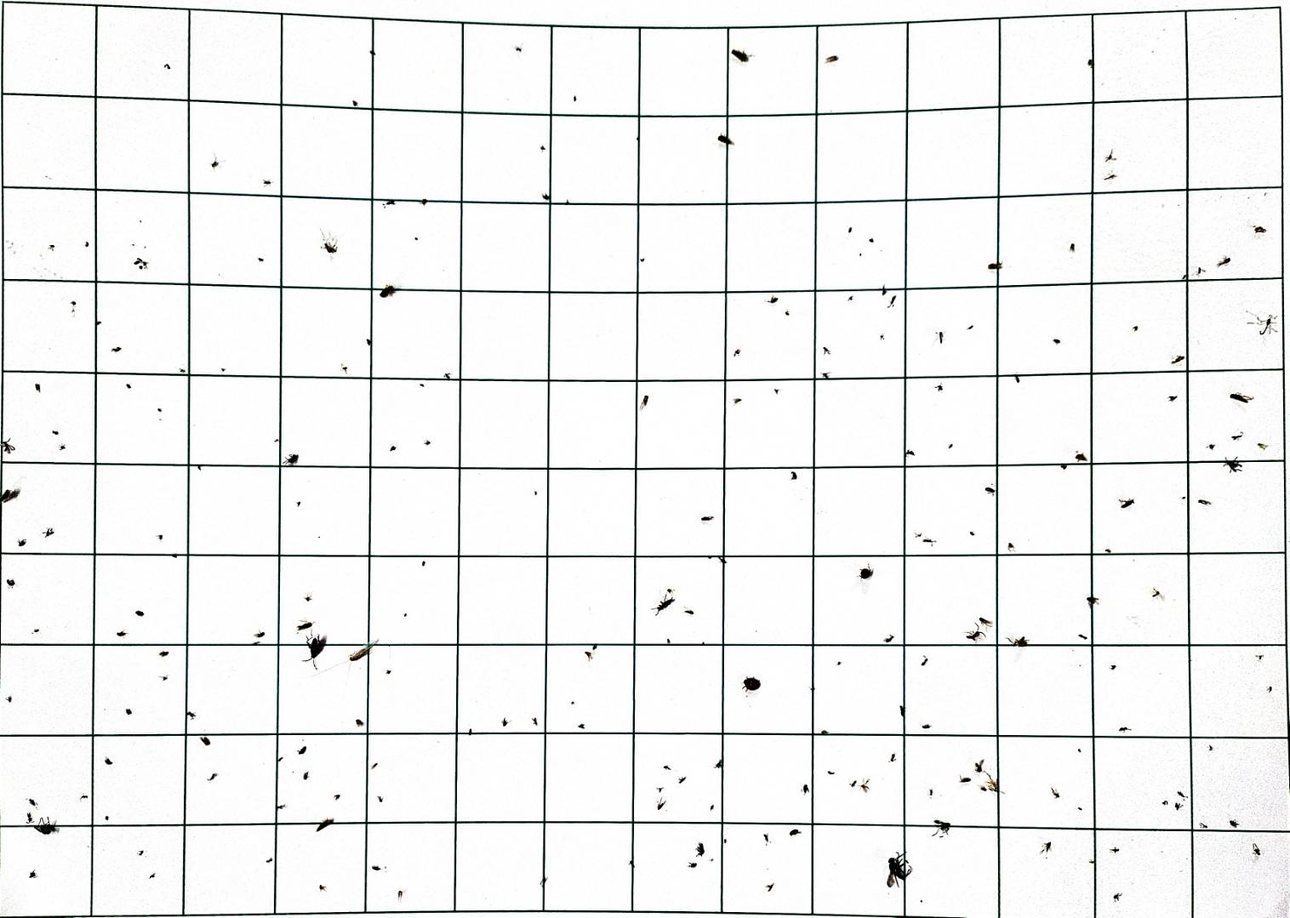fly: (885, 851, 911, 889)
test: (298, 628, 328, 668), (1245, 309, 1280, 337), (1054, 452, 1087, 477), (349, 637, 379, 663), (652, 590, 675, 616), (319, 228, 339, 254), (33, 816, 60, 834), (981, 776, 1005, 794), (930, 818, 951, 838), (741, 676, 760, 695), (1, 486, 21, 503), (731, 48, 753, 63), (1222, 457, 1243, 472), (964, 628, 986, 642), (1, 437, 17, 454), (316, 817, 334, 832), (379, 284, 398, 298), (1230, 392, 1254, 403), (857, 566, 874, 580), (1013, 635, 1031, 647), (296, 620, 313, 632), (133, 257, 148, 270), (283, 453, 299, 465), (718, 134, 734, 146), (859, 777, 871, 792), (1119, 498, 1135, 509), (1251, 223, 1267, 234), (1151, 587, 1164, 600), (1040, 840, 1052, 854), (695, 841, 705, 857), (1217, 256, 1231, 267), (1086, 595, 1100, 606), (974, 759, 985, 773), (978, 617, 993, 627), (640, 395, 649, 411), (42, 527, 55, 538), (1105, 150, 1116, 163), (1075, 451, 1087, 462), (1193, 266, 1206, 276), (1051, 785, 1061, 798), (1171, 355, 1185, 364), (1252, 842, 1261, 856), (988, 262, 1003, 270), (1104, 172, 1117, 181), (923, 538, 937, 546), (825, 55, 839, 63), (199, 736, 210, 746), (717, 555, 727, 566), (887, 295, 896, 307), (297, 745, 307, 755), (883, 634, 894, 643), (207, 772, 218, 781), (984, 486, 995, 495), (714, 758, 723, 769), (27, 797, 38, 806), (959, 775, 971, 783), (701, 515, 714, 522), (383, 200, 396, 207), (937, 331, 944, 344), (1258, 443, 1271, 450), (18, 538, 28, 547), (6, 578, 16, 587), (656, 800, 665, 810), (210, 159, 220, 168), (1113, 892, 1122, 902), (767, 296, 778, 304), (1229, 819, 1240, 827), (585, 650, 593, 661), (26, 811, 34, 822), (253, 631, 265, 638), (763, 832, 770, 844), (1231, 433, 1243, 440), (1198, 499, 1212, 505), (789, 829, 801, 836), (303, 593, 312, 602), (765, 883, 774, 892), (29, 869, 38, 878), (1174, 801, 1183, 810), (501, 717, 509, 727), (340, 364, 348, 374), (539, 876, 547, 886), (1177, 790, 1187, 798), (662, 763, 672, 771), (1118, 726, 1131, 732), (158, 650, 169, 657), (116, 630, 127, 637), (134, 610, 145, 617), (802, 783, 809, 794), (921, 655, 928, 666), (1109, 846, 1120, 853), (397, 889, 404, 900), (789, 471, 797, 480), (934, 384, 943, 392), (187, 711, 196, 719), (104, 757, 113, 765), (1008, 542, 1016, 551), (355, 718, 363, 727), (823, 346, 831, 355), (678, 776, 687, 784), (365, 339, 374, 347), (111, 346, 121, 353), (905, 449, 915, 456), (1168, 395, 1178, 402), (688, 861, 698, 868), (880, 285, 887, 295), (371, 865, 382, 871), (899, 705, 905, 716), (733, 349, 741, 357), (542, 192, 550, 200), (319, 883, 327, 891), (277, 756, 285, 764), (531, 717, 538, 726), (263, 179, 272, 186), (732, 398, 741, 405), (822, 371, 831, 378), (627, 858, 634, 867), (514, 46, 523, 53), (890, 753, 897, 762), (849, 780, 858, 787), (846, 225, 853, 234), (177, 367, 186, 374), (684, 609, 694, 615), (1078, 633, 1088, 639), (443, 372, 451, 379), (125, 707, 132, 715), (1208, 443, 1216, 450), (160, 674, 168, 681), (371, 761, 378, 769), (914, 531, 922, 538), (83, 240, 91, 247), (303, 771, 309, 780), (1070, 243, 1076, 252), (35, 383, 41, 392), (922, 723, 931, 729), (820, 729, 829, 735), (928, 788, 934, 797), (1200, 822, 1209, 828), (1256, 654, 1265, 660), (424, 439, 431, 446), (578, 722, 585, 729), (334, 793, 341, 800), (1131, 325, 1138, 332), (421, 198, 428, 205), (1207, 744, 1214, 751), (6, 695, 13, 702), (149, 872, 156, 879), (385, 669, 392, 676), (220, 367, 227, 374), (1053, 338, 1061, 344), (278, 804, 286, 810), (32, 628, 40, 634), (656, 786, 664, 792), (81, 794, 89, 800), (1060, 463, 1068, 469), (966, 324, 974, 330), (1014, 375, 1020, 383), (1267, 685, 1273, 693), (827, 769, 835, 775), (1087, 59, 1093, 67), (421, 560, 427, 568), (257, 257, 265, 263), (69, 301, 77, 307), (390, 446, 397, 452), (48, 244, 55, 250), (59, 444, 66, 450), (377, 795, 383, 802), (137, 850, 144, 856), (352, 100, 358, 107), (266, 857, 273, 863), (164, 64, 171, 70), (1162, 800, 1169, 806), (1088, 858, 1095, 864), (947, 444, 954, 450), (296, 500, 302, 507), (468, 728, 473, 736), (572, 94, 577, 102), (51, 431, 59, 436), (157, 534, 163, 540), (540, 145, 546, 151), (1110, 664, 1116, 670), (104, 815, 110, 821), (709, 805, 715, 811), (835, 660, 841, 666), (868, 237, 874, 243), (96, 320, 102, 326), (1105, 548, 1112, 553), (370, 49, 375, 56), (1077, 806, 1084, 811), (784, 311, 791, 316), (847, 296, 854, 301), (171, 553, 178, 558), (197, 464, 202, 471), (640, 257, 645, 263), (402, 613, 408, 618), (666, 638, 671, 644), (709, 856, 714, 862), (722, 838, 728, 843), (1076, 748, 1082, 753), (810, 686, 816, 691), (969, 531, 975, 536), (774, 389, 779, 395), (880, 334, 885, 340), (413, 236, 419, 241), (126, 383, 131, 389), (666, 589, 673, 593), (570, 700, 575, 705), (593, 645, 598, 650), (706, 555, 711, 560), (858, 252, 863, 257), (533, 491, 538, 496), (157, 408, 162, 413), (1182, 275, 1187, 280), (701, 640, 705, 646), (919, 899, 924, 903), (420, 384, 425, 388), (274, 440, 279, 444)
